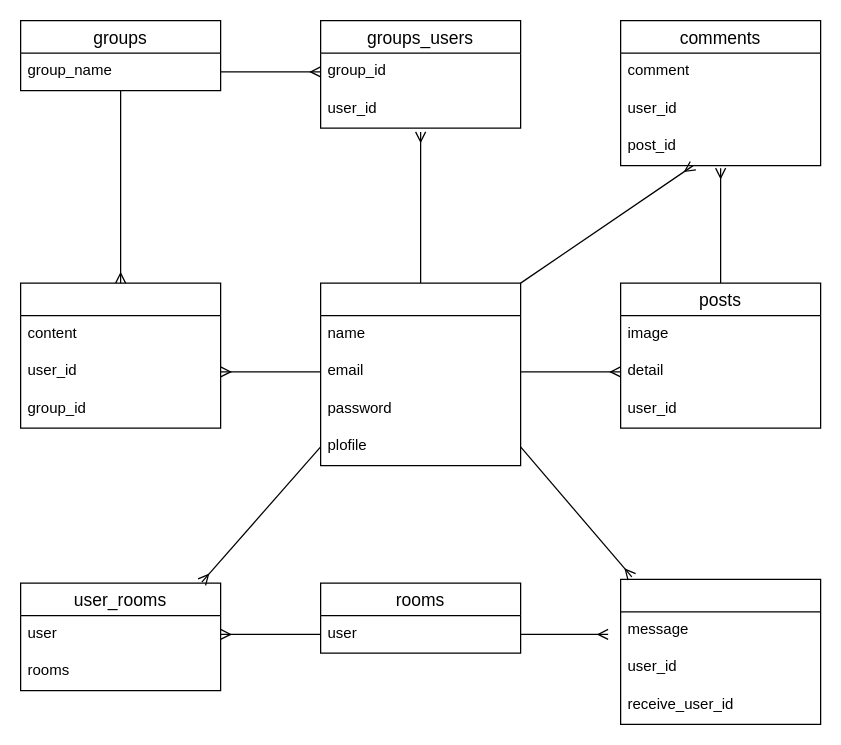
The diagram is 841 pixels wide and 745 high, and some of its shapes have lost their labels. The shapes that lost their labels are listed below. From the top down, each one's box as (x1, y1, x2, y2) in pixels, then its label:
(19, 282, 221, 428): group_rooms
(319, 282, 521, 466): users
(619, 578, 821, 724): messages
